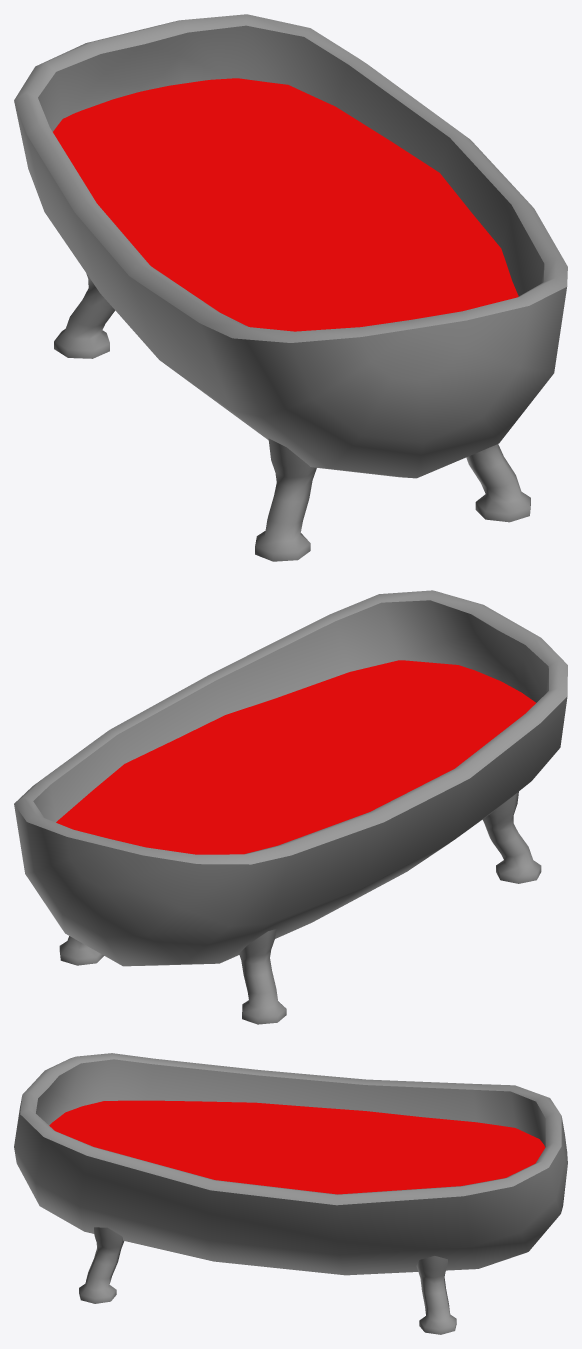
The model's file is Bath.FBX.
The picture shows the model from 3 angles, top to bottom: view 1: azimuth 30°, elevation 25°; view 2: azimuth 150°, elevation 25°; view 3: azimuth 270°, elevation 25°; orthographic projection. The views are drawn at different scales.
Visible parts, largest first — view 1: ChamferCyl001; view 2: ChamferCyl001; view 3: ChamferCyl001.
Boxes of the visible parts, x1,y1,x2,y2 form: ChamferCyl001: [14, 14, 567, 561]; ChamferCyl001: [14, 590, 567, 1024]; ChamferCyl001: [14, 1053, 567, 1334].
Bounding box in the file's own units: 61.18 × 37.36 × 107.
